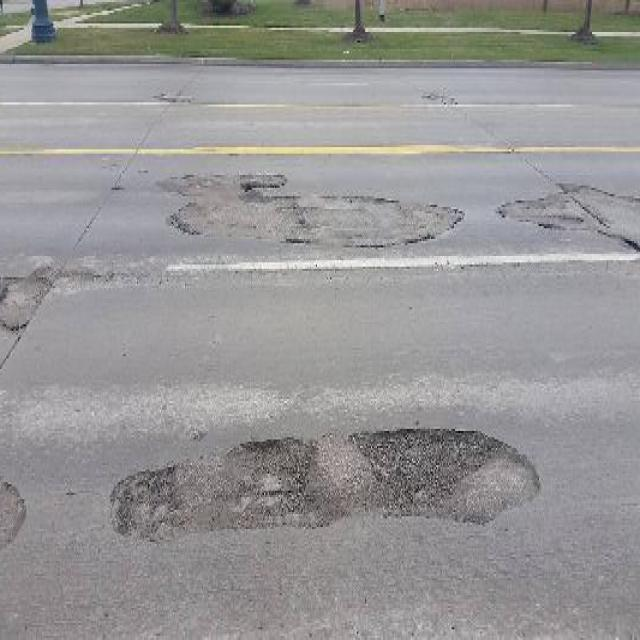pothole: (348, 426, 500, 504), (230, 428, 320, 520), (112, 458, 182, 538), (238, 174, 260, 198)
